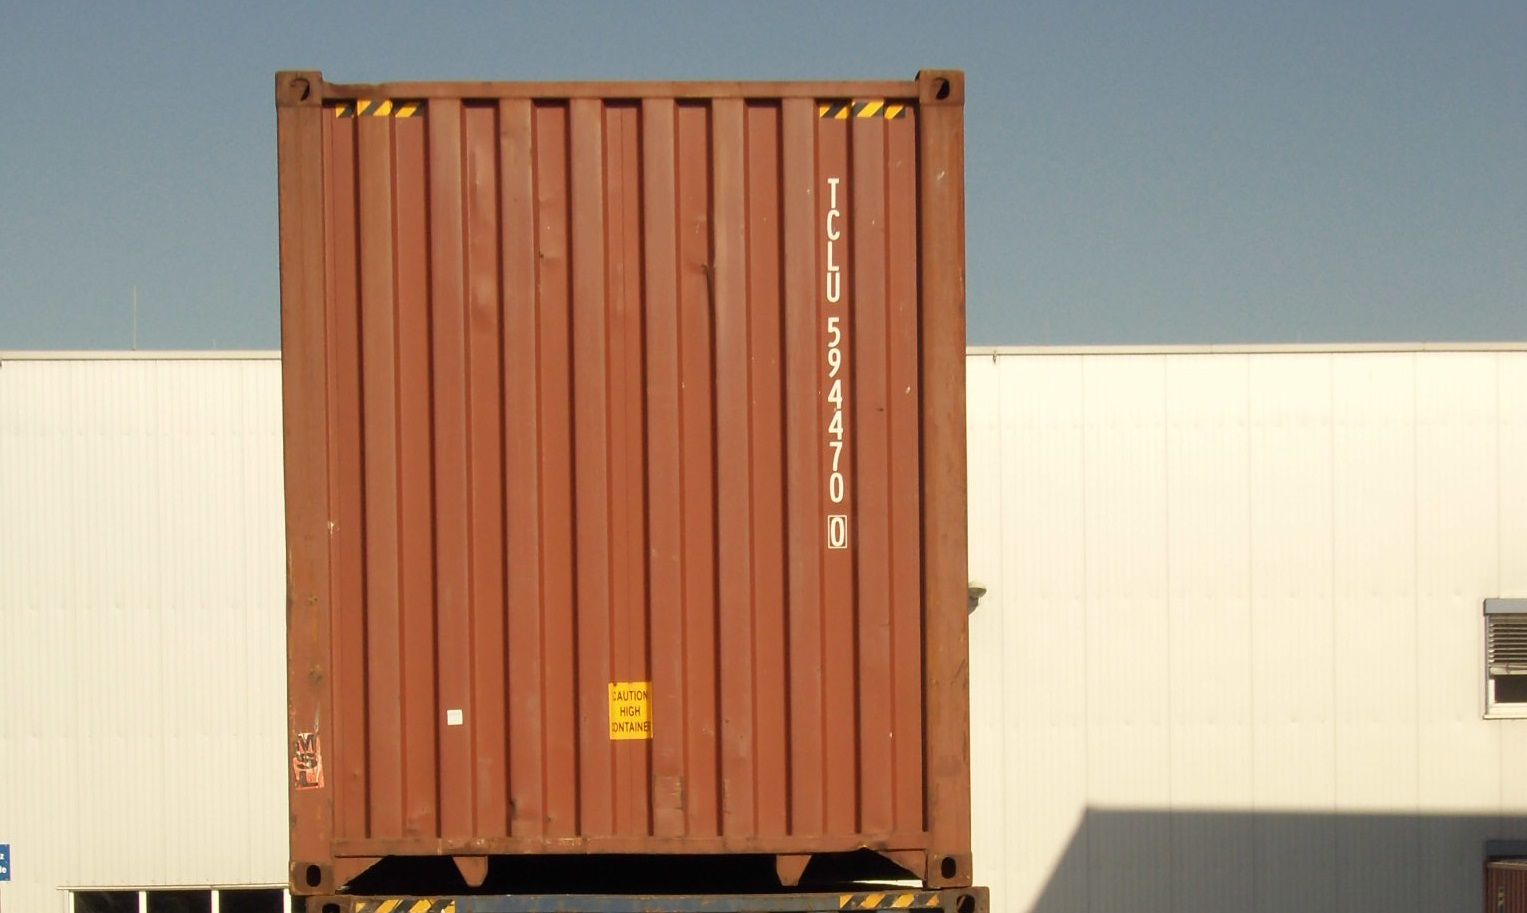container_no_door: (276, 65, 974, 895)
